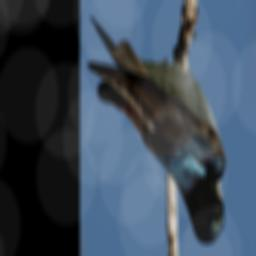Swallow: (85, 0, 226, 244)
